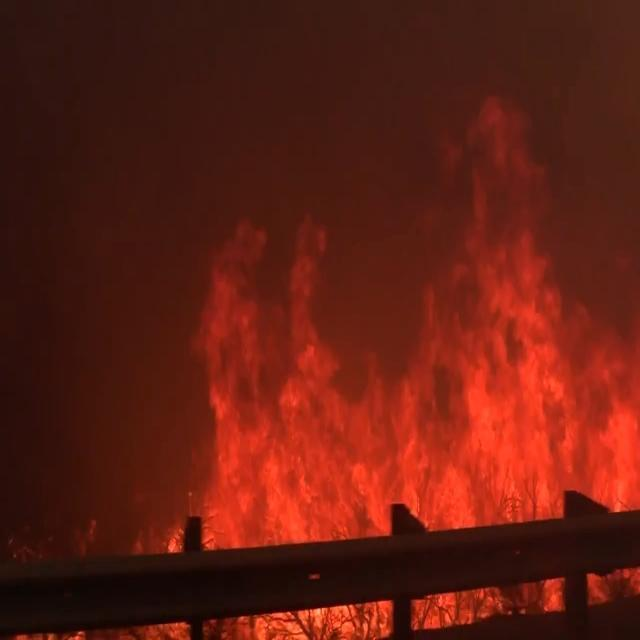Fire: (173, 114, 639, 640)
